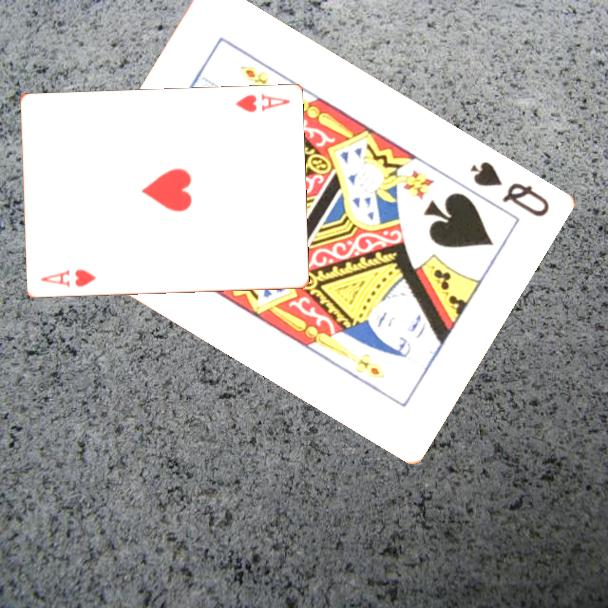h01: (37, 266, 99, 290), (231, 91, 293, 115)
s12: (466, 157, 552, 220)
